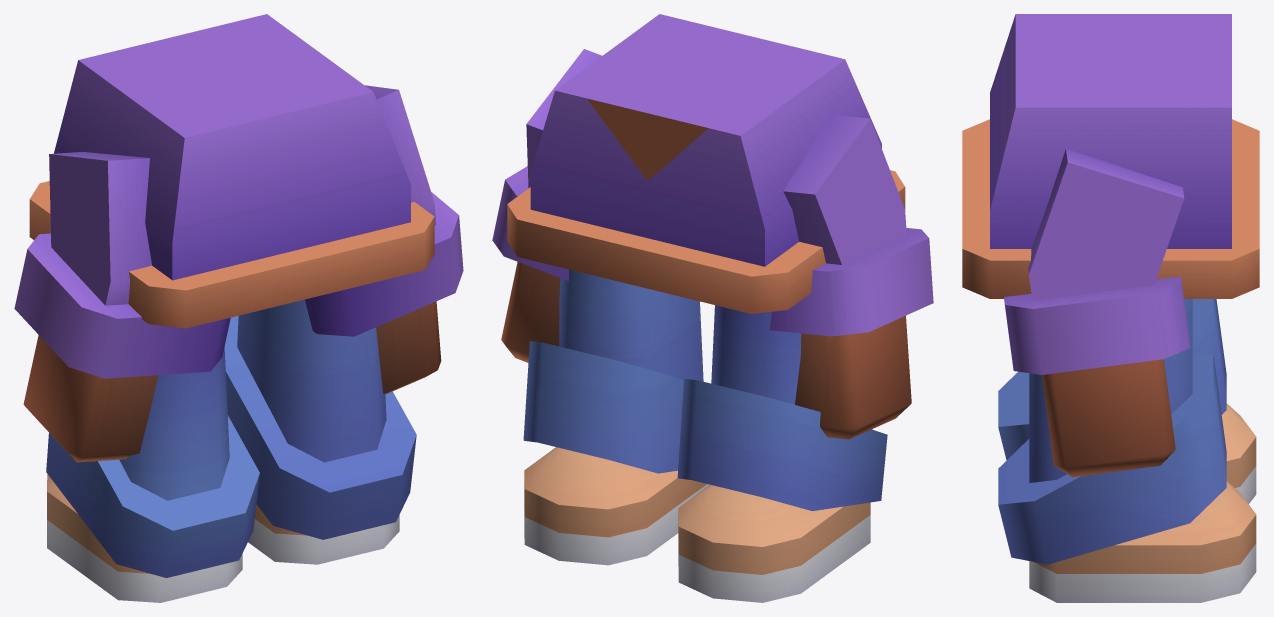
The model's file is mini-female-a.glb.
3 views of the same model, side by side, from view 1: azimuth 30°, elevation 25°; view 2: azimuth 150°, elevation 25°; view 3: azimuth 270°, elevation 25° (orthographic). The views are drawn at different scales.
Visible parts, largest first — view 1: body-mesh; view 2: body-mesh; view 3: body-mesh.
Part boxes in pixels (x1,y1,x2,y2): body-mesh: (14,14,463,602); body-mesh: (492,14,933,602); body-mesh: (962,14,1259,602).
Size of the model in its own units: 1.24 by 1.4 by 0.7954.
1 material, 1 textured.
